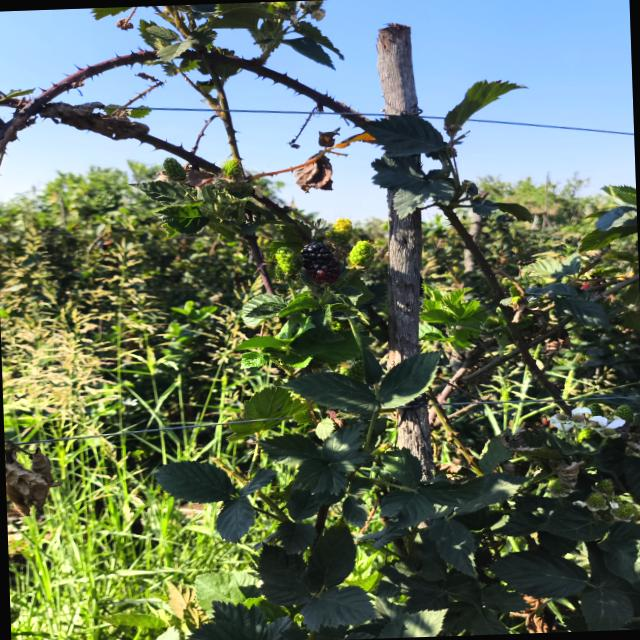marron: (301, 241, 340, 283)
verde: (274, 246, 301, 281), (347, 240, 377, 269), (325, 218, 352, 245), (163, 157, 186, 181), (222, 159, 242, 179)
